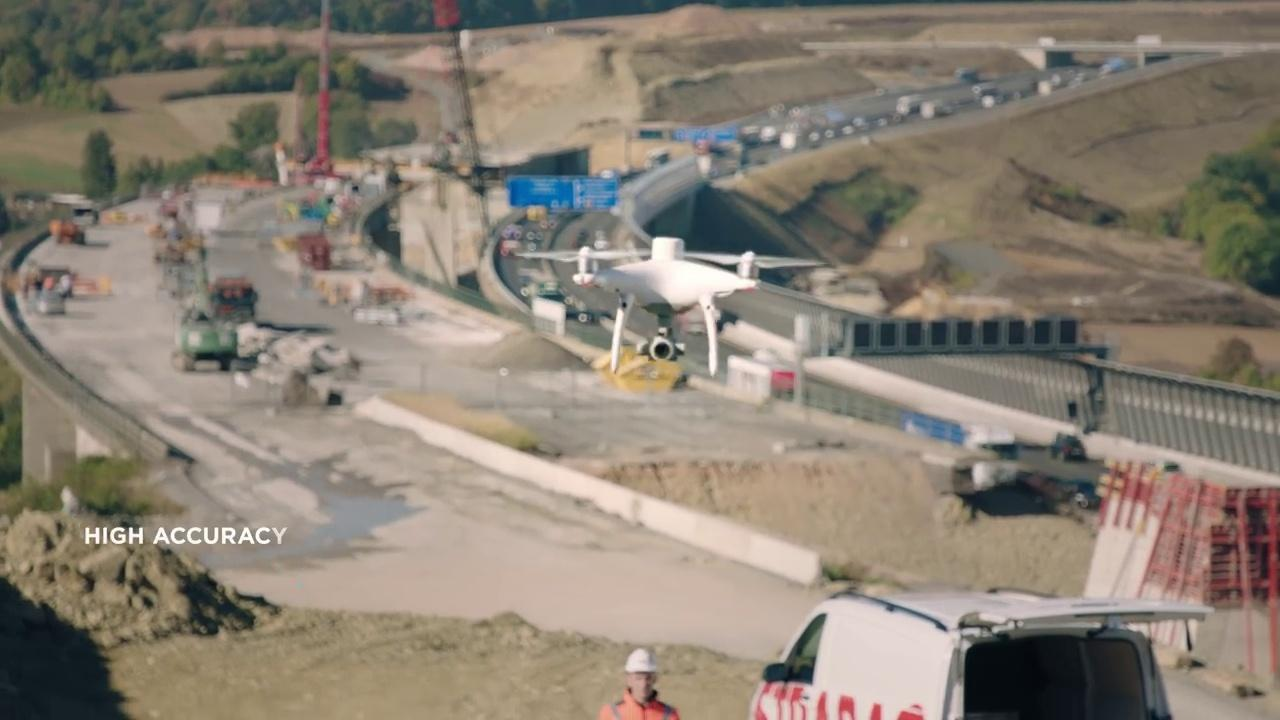drone: (522, 235, 827, 379)
